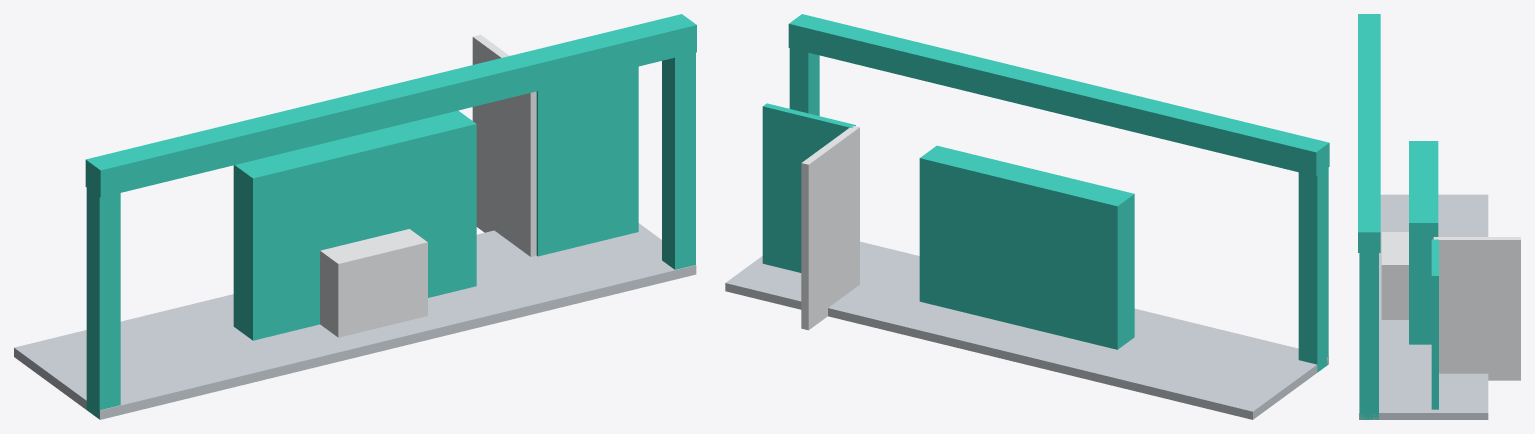
The picture shows the model from 3 angles, left to right: view 1: azimuth 30°, elevation 25°; view 2: azimuth 150°, elevation 25°; view 3: azimuth 270°, elevation 25°; orthographic projection. The views are drawn at different scales.
Parts seen in each view (by area): view 1: Exhibition Booth Concept; view 2: Exhibition Booth Concept; view 3: Exhibition Booth Concept.
Part boxes in pixels (left/top/right/bottom): Exhibition Booth Concept: left=14, top=14, right=696, bottom=419; Exhibition Booth Concept: left=725, top=14, right=1329, bottom=419; Exhibition Booth Concept: left=1358, top=14, right=1520, bottom=419.
Bounding box in the file's own units: 8 × 3.2 × 2.52.
